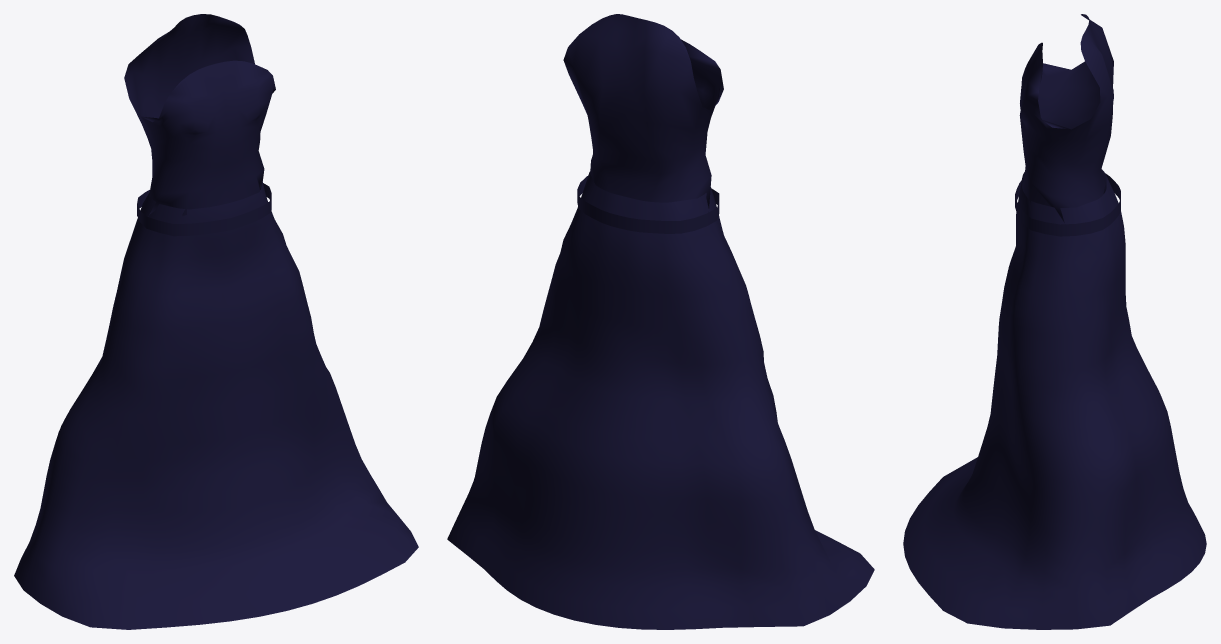
The model's file is gown.glb.
3 views of the same model, side by side, from view 1: azimuth 30°, elevation 25°; view 2: azimuth 150°, elevation 25°; view 3: azimuth 270°, elevation 25° (orthographic). The views are drawn at different scales.
Visible parts, largest first — view 1: gown; view 2: gown; view 3: gown.
Part boxes in pixels (<box>): gown: <box>14,14,418,629</box>; gown: <box>447,14,874,629</box>; gown: <box>903,14,1206,629</box>.
Size of the model in its own units: 1.07 by 1.52 by 0.7987.
